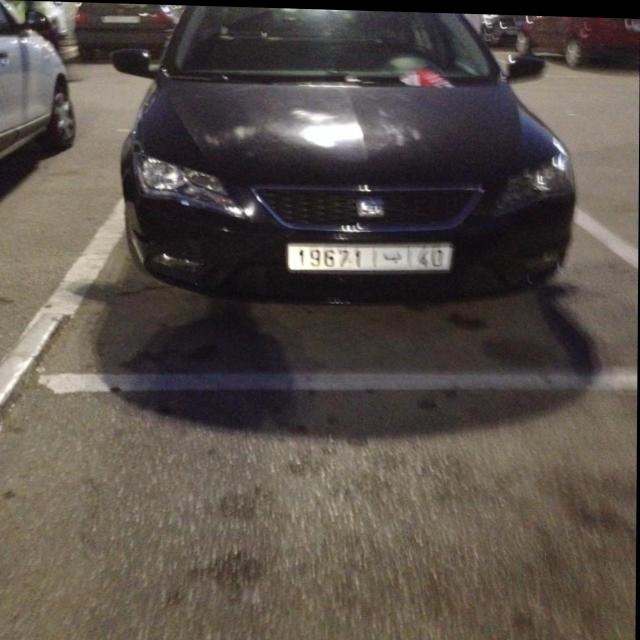License-Plate: (289, 244, 451, 268)
